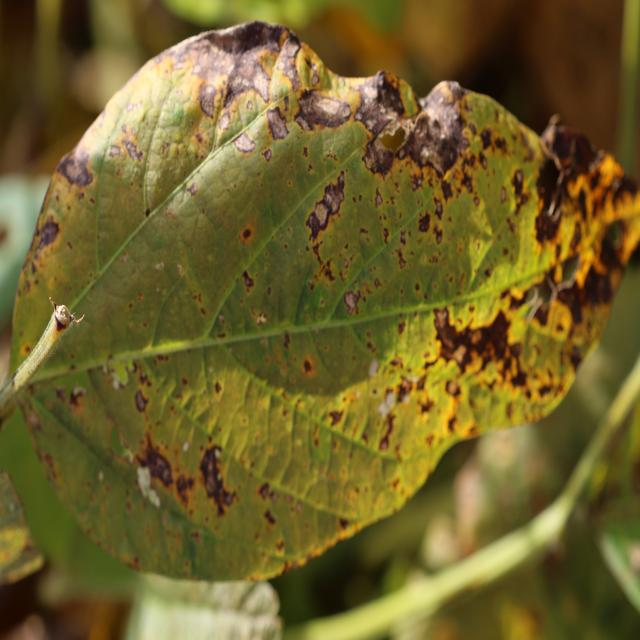Bacterial_Blight: (400, 81, 474, 177), (433, 302, 517, 374), (302, 164, 350, 241), (538, 253, 590, 322), (546, 132, 596, 189), (200, 444, 238, 516), (133, 433, 175, 494), (295, 91, 348, 132), (55, 148, 94, 189), (508, 166, 530, 222), (362, 137, 396, 173), (537, 203, 563, 243), (35, 215, 61, 251), (608, 218, 626, 268), (266, 108, 289, 141), (378, 414, 396, 451), (199, 84, 218, 118), (123, 137, 145, 164), (232, 132, 257, 154), (68, 385, 87, 410), (343, 289, 361, 315), (25, 407, 42, 430), (134, 388, 149, 413), (250, 305, 268, 325), (53, 384, 69, 405), (570, 344, 583, 368), (327, 409, 344, 427), (445, 379, 461, 397), (242, 271, 255, 293), (262, 507, 277, 526), (258, 481, 271, 500), (186, 180, 199, 197), (433, 225, 444, 245), (374, 187, 384, 208), (302, 358, 314, 375), (396, 250, 406, 270), (108, 144, 122, 158), (397, 320, 406, 335), (214, 380, 223, 395), (242, 227, 252, 240), (399, 230, 407, 245), (302, 146, 309, 158), (144, 207, 151, 218)
Soybean: (0, 22, 640, 581)
